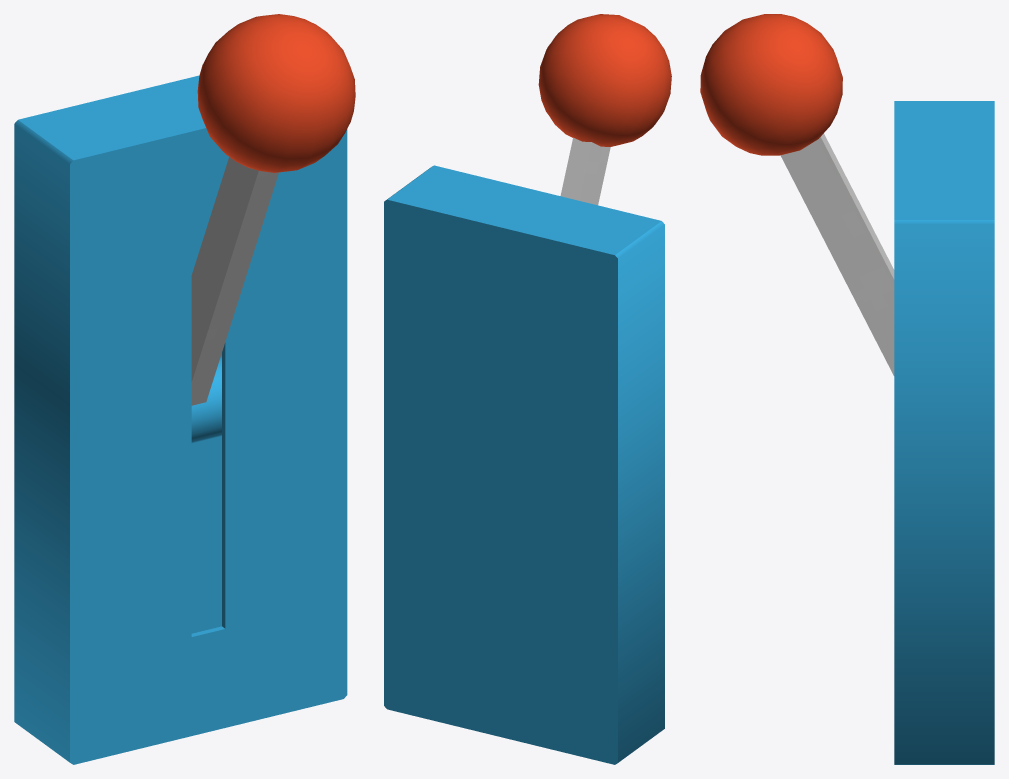
Rendered from lever.glb.
3 renders of one model, left to right at view 1: azimuth 30°, elevation 25°; view 2: azimuth 150°, elevation 25°; view 3: azimuth 270°, elevation 25°, orthographic. The views are drawn at different scales.
Visible parts, largest first — view 1: Lever_Material #26_0; view 2: Lever_Material #26_0; view 3: Lever_Material #26_0.
Part boxes in pixels (x1,y1,x2,y2): Lever_Material #26_0: (14, 14, 355, 764); Lever_Material #26_0: (384, 14, 671, 764); Lever_Material #26_0: (700, 14, 994, 764).
Bounding box in the file's own units: 0.1153 × 0.3017 × 0.1174.
1 material, 1 textured.
